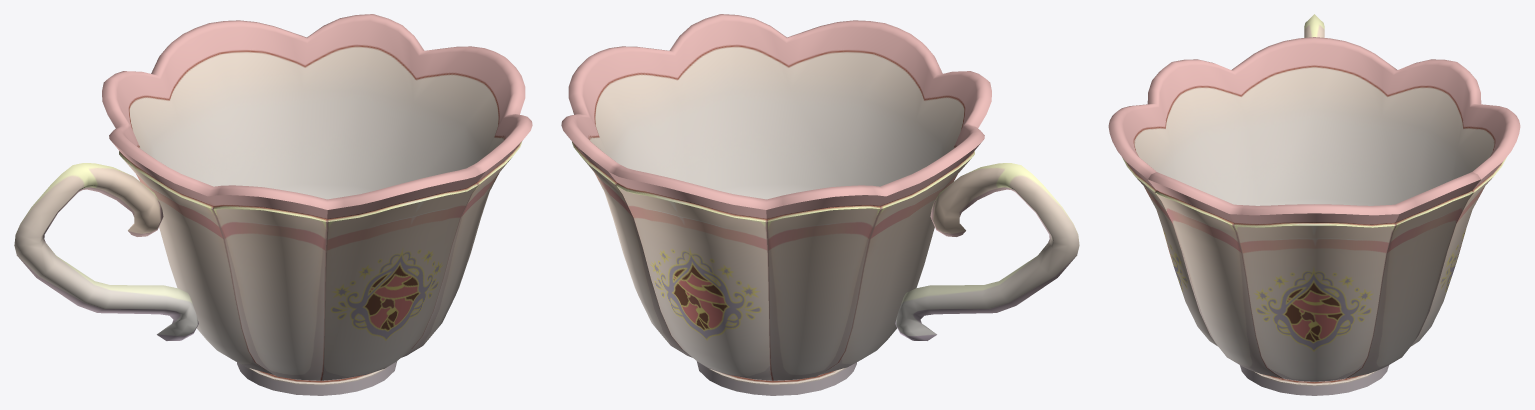
The model's file is Cup.glb.
The picture shows the model from 3 angles, left to right: view 1: azimuth 30°, elevation 25°; view 2: azimuth 150°, elevation 25°; view 3: azimuth 270°, elevation 25°; orthographic projection. The views are drawn at different scales.
Visible parts, largest first — view 1: SkillObj_Nicole_Cup_LOD0; view 2: SkillObj_Nicole_Cup_LOD0; view 3: SkillObj_Nicole_Cup_LOD0.
Part boxes in pixels (x1=…): SkillObj_Nicole_Cup_LOD0: x1=14, y1=14, x2=532, y2=395; SkillObj_Nicole_Cup_LOD0: x1=561, y1=14, x2=1079, y2=395; SkillObj_Nicole_Cup_LOD0: x1=1108, y1=14, x2=1520, y2=395.
Size of the model in its own units: 0.1204 by 0.0606 by 0.0933.
1 material, 1 textured.
